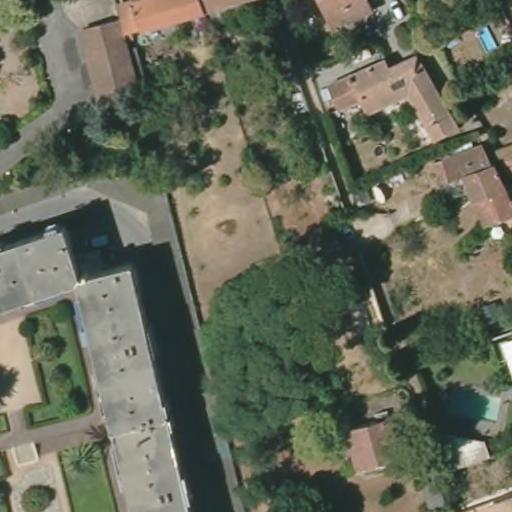pool: (474, 26, 500, 52)
